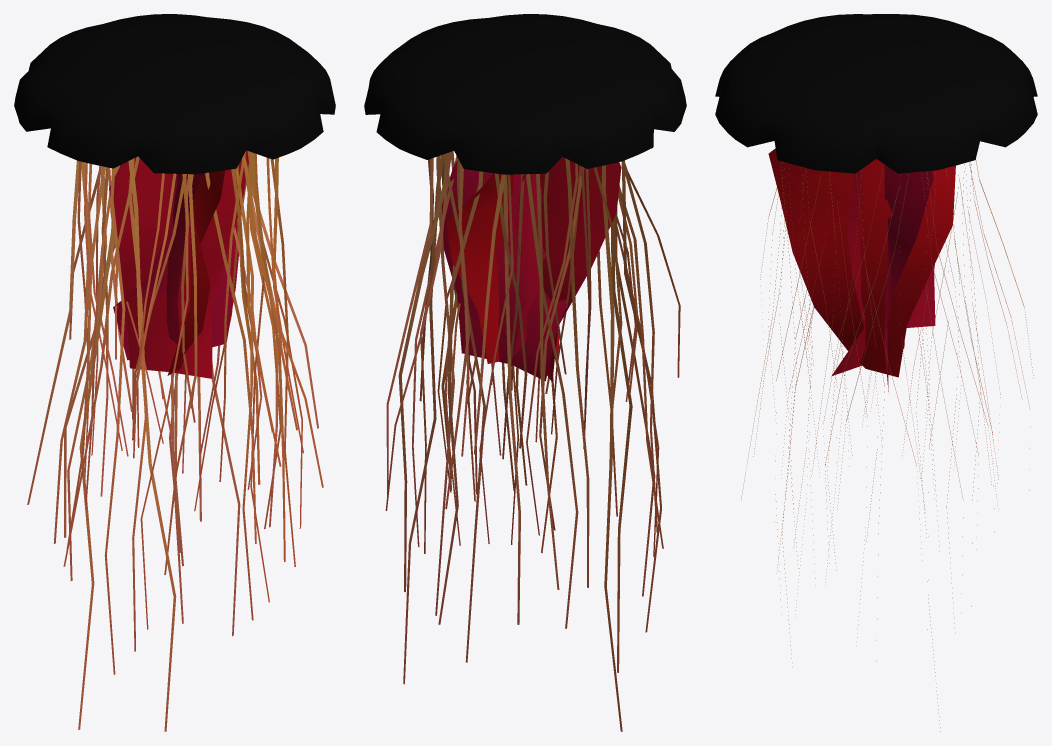
File: lions_mane_jelly_lo.glb
The picture shows the model from 3 angles, left to right: view 1: azimuth 30°, elevation 25°; view 2: azimuth 150°, elevation 25°; view 3: azimuth 270°, elevation 25°; orthographic projection.
Parts seen in each view (by area): view 1: lions_mane_jelly_lo; view 2: lions_mane_jelly_lo; view 3: lions_mane_jelly_lo.
Part boxes in pixels (<box>): lions_mane_jelly_lo: <box>14,14,335,731</box>; lions_mane_jelly_lo: <box>364,14,686,731</box>; lions_mane_jelly_lo: <box>715,14,1037,731</box>.
Bounding box in the file's own units: 1.49 × 3.37 × 1.49.
